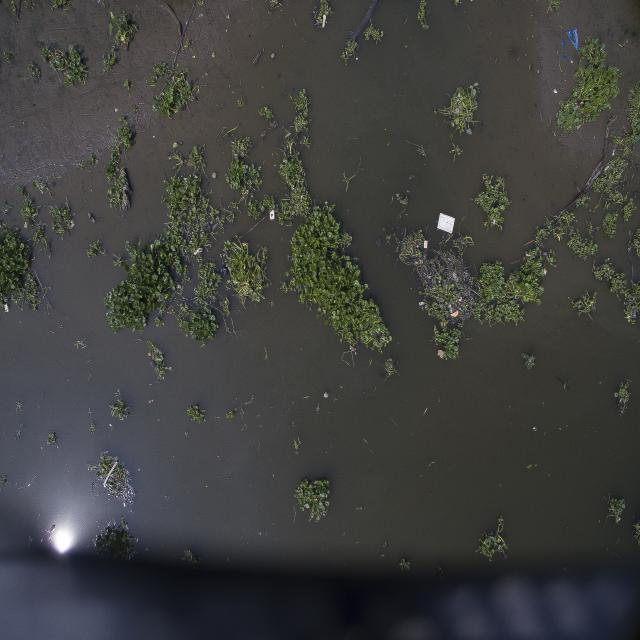Plastic: (562, 25, 578, 62), (436, 212, 454, 234), (448, 302, 459, 316), (193, 247, 204, 255), (268, 211, 276, 220), (438, 351, 444, 362), (322, 14, 327, 27), (220, 266, 228, 274), (197, 12, 203, 19), (226, 14, 231, 20), (424, 240, 427, 248)
